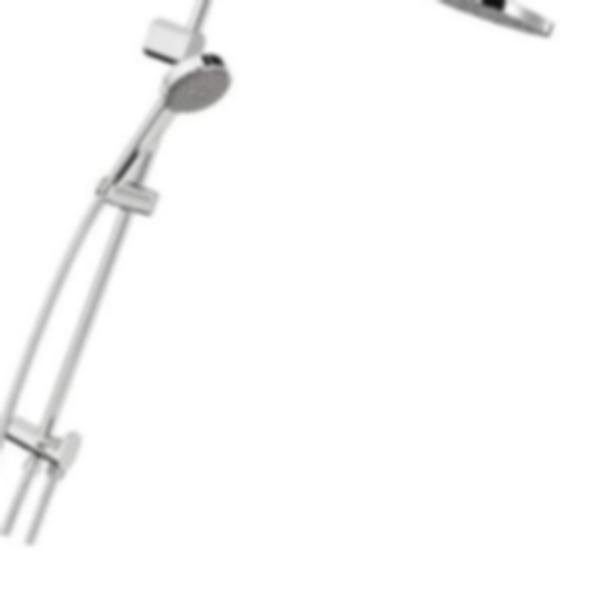Ducha: (0, 0, 597, 551)
